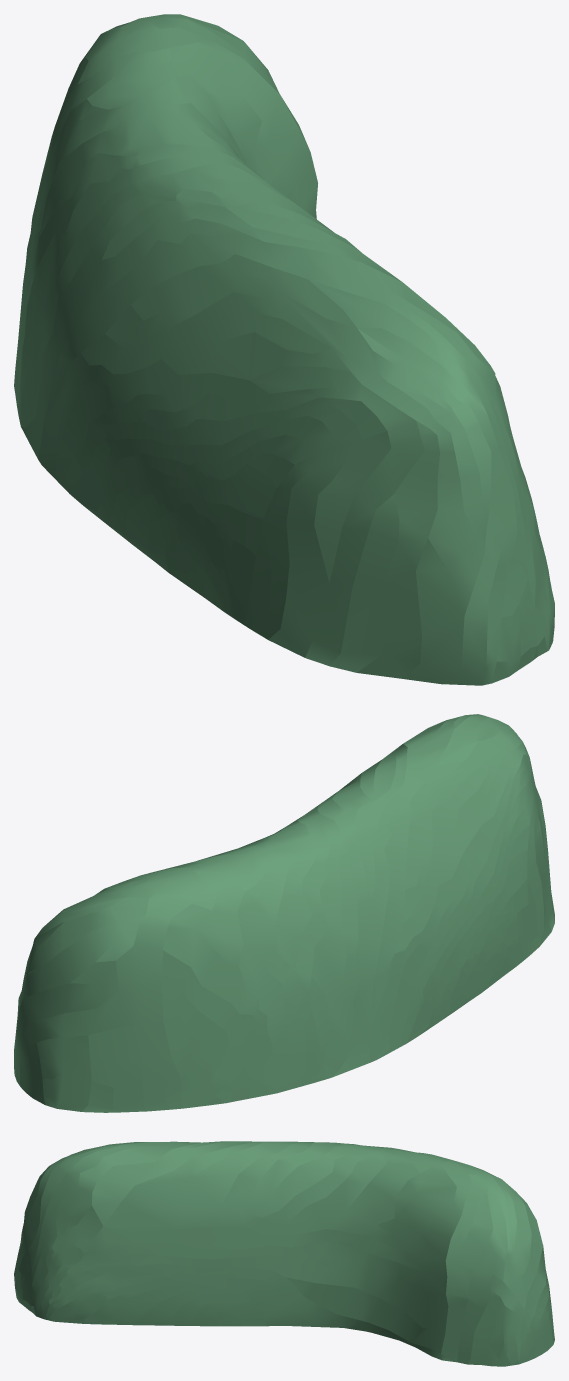
The model's file is island_asian_I.fbx.
3 views of the same model, one above another, from view 1: azimuth 30°, elevation 25°; view 2: azimuth 150°, elevation 25°; view 3: azimuth 270°, elevation 25° (orthographic). The views are drawn at different scales.
Parts seen in each view (by area): view 1: island_asian_I; view 2: island_asian_I; view 3: island_asian_I.
Part boxes in pixels (bbox=[...]): island_asian_I: bbox=[14, 14, 554, 685]; island_asian_I: bbox=[14, 714, 554, 1112]; island_asian_I: bbox=[14, 1141, 554, 1366].
Size of the model in its own units: 2785 by 2129 by 6302.
